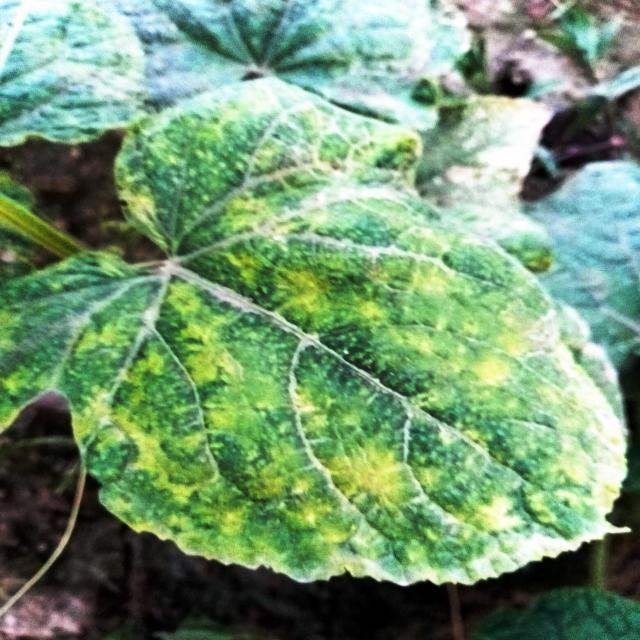Downy-Mildew: (1, 76, 629, 586)
